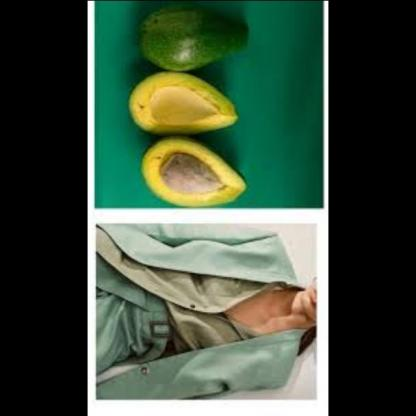avocado: (126, 139, 253, 221), (133, 0, 253, 70), (117, 76, 251, 132)
